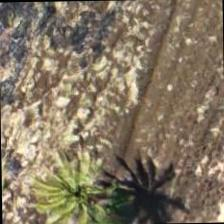Kelapa_Sawit: (26, 145, 118, 223)
